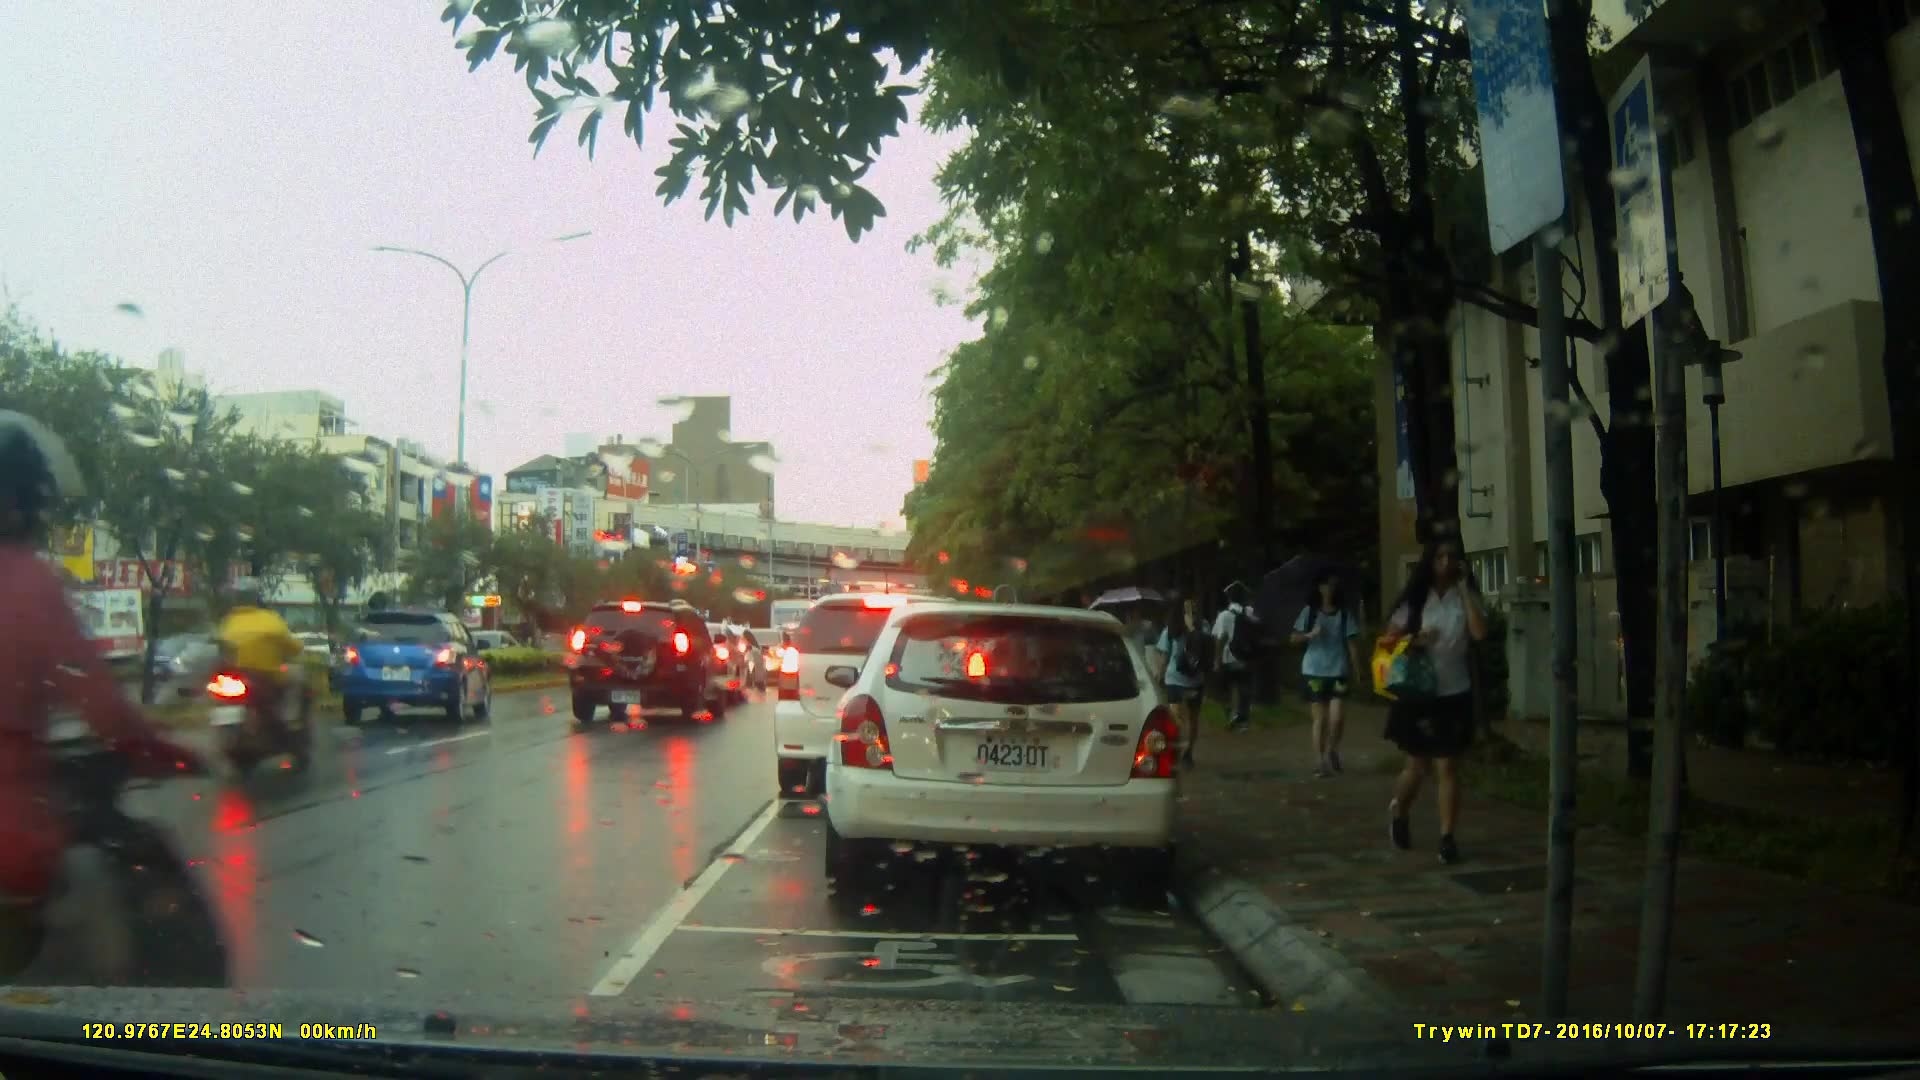pedestrian: (1392, 515, 1502, 866), (1292, 568, 1360, 784), (1163, 571, 1232, 762)
rider: (1, 421, 229, 1079), (205, 574, 309, 770)
vehicle: (815, 593, 1204, 909), (771, 590, 995, 802), (566, 600, 732, 726), (336, 609, 495, 724)
